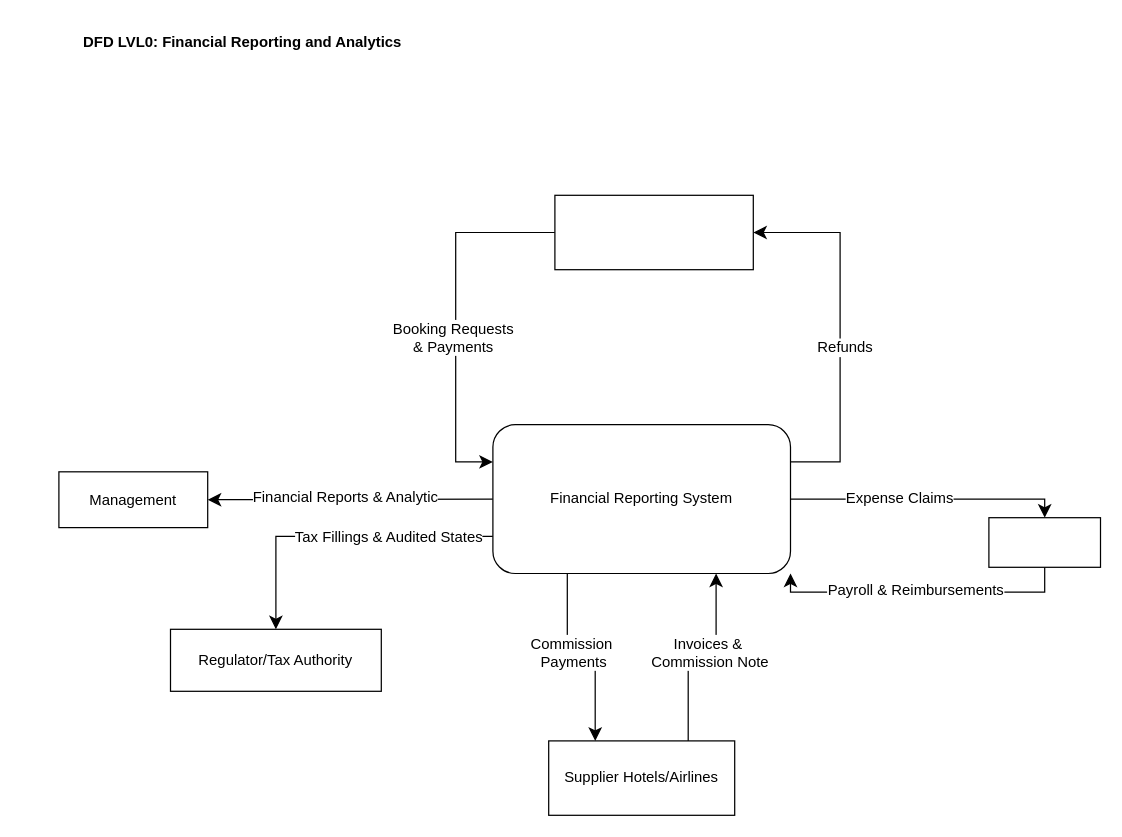
This 1122x837 diagram has some shape labels left out. Here are the shapes that lost their labels. From the top down, the centre of each, then its label:
At pixel 653 232: "Customer".
At pixel 1044 541: "Employee".
